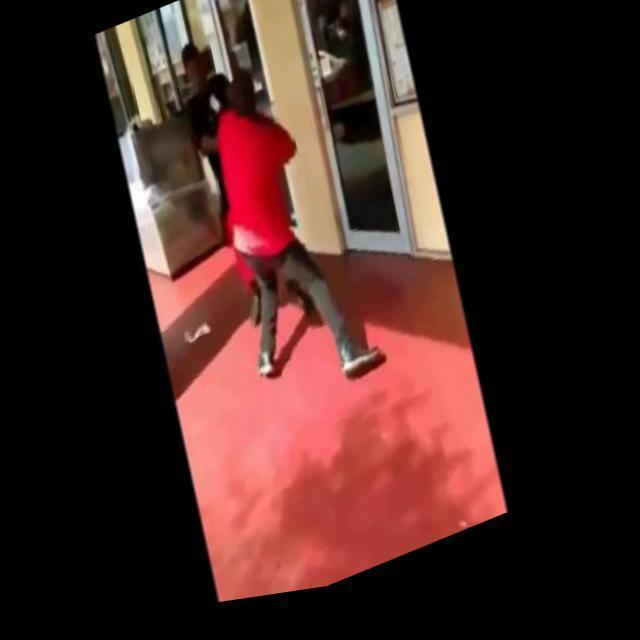fight: (152, 0, 416, 446)
